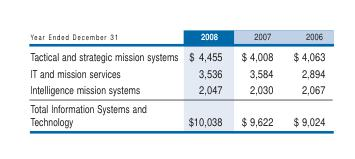table: (29, 29, 324, 127)
table column: (29, 29, 182, 127), (231, 29, 282, 127), (182, 29, 231, 127), (282, 29, 324, 127)
table column header: (29, 29, 324, 45)
table row: (29, 98, 324, 127), (29, 45, 324, 64), (29, 80, 324, 98), (29, 29, 324, 45), (29, 64, 324, 80)
